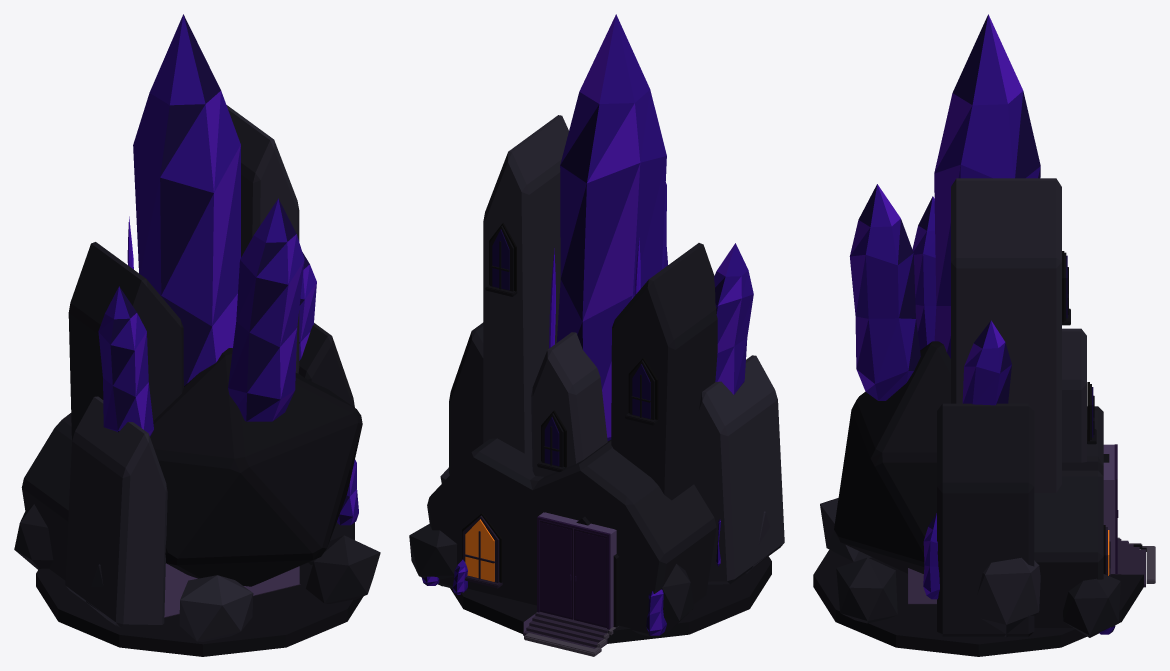
Rendered from crystal-spire-visual.obj.
The picture shows the model from 3 angles, left to right: view 1: azimuth 30°, elevation 25°; view 2: azimuth 150°, elevation 25°; view 3: azimuth 270°, elevation 25°; orthographic projection.
Visible parts, largest first — view 1: RockShell, Crystals, Foundation_01, WalkRearWall; view 2: RockShell, Crystals, Windows, Foundation_01, HouseDoorLeaf_L_Panel, HouseDoorLeaf_R_Panel, Entry; view 3: RockShell, Crystals, Foundation_01, Windows, WalkPassageLeft, WalkSideLeftWall, Entry.
Boxes of the visible parts, <box> form: RockShell: <box>14,105,380,641</box>; Crystals: <box>98,14,358,525</box>; Foundation_01: <box>36,562,363,656</box>; WalkRearWall: <box>164,563,299,616</box>; RockShell: <box>409,115,784,636</box>; Crystals: <box>421,14,753,635</box>; Windows: <box>462,223,658,588</box>; Foundation_01: <box>450,556,771,643</box>; HouseDoorLeaf_L_Panel: <box>540,522,571,617</box>; HouseDoorLeaf_R_Panel: <box>575,531,606,626</box>; Entry: <box>524,516,619,656</box>; RockShell: <box>820,178,1120,637</box>; Crystals: <box>849,14,1115,634</box>; Foundation_01: <box>813,549,1143,656</box>; Windows: <box>1062,251,1110,576</box>; WalkPassageLeft: <box>1103,481,1115,573</box>; WalkSideLeftWall: <box>909,568,936,603</box>; Entry: <box>1103,454,1155,583</box>.
Size of the model in its own units: 37 by 69.77 by 38.19.
